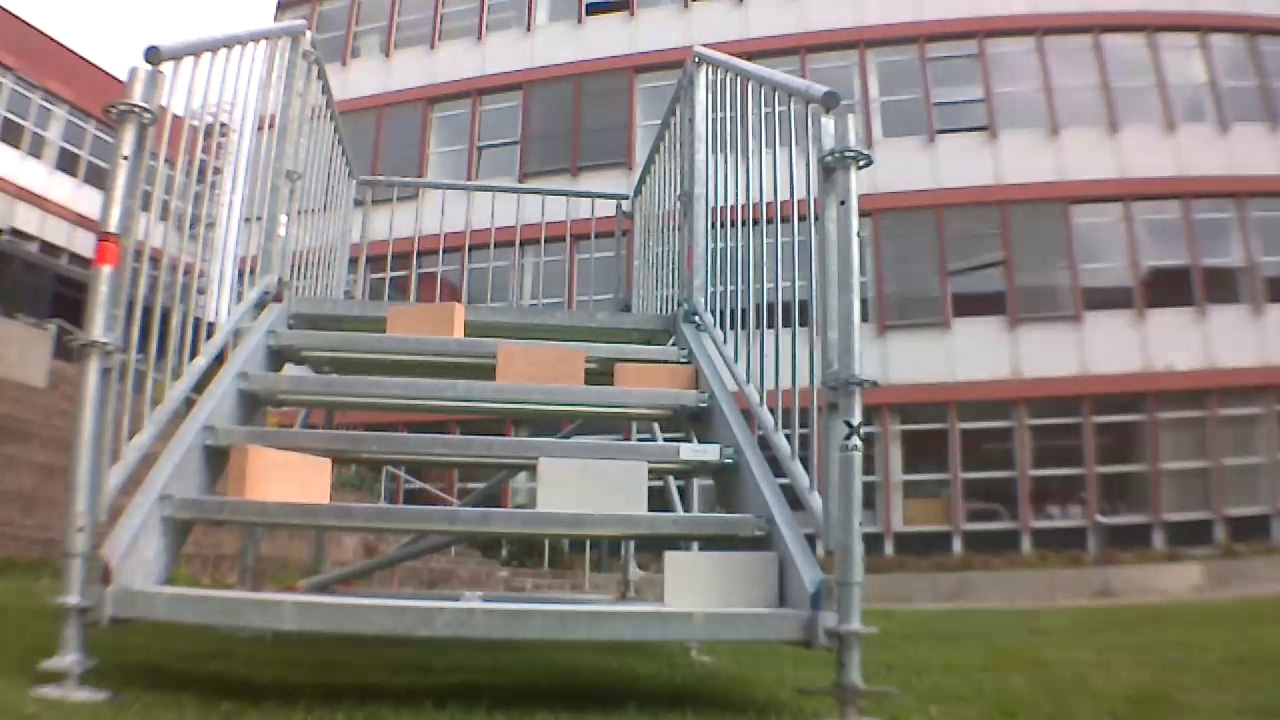brick: (661, 551, 779, 607), (536, 458, 645, 510), (231, 446, 329, 503), (497, 345, 584, 385), (388, 302, 462, 336), (614, 365, 696, 390)
edge: (114, 588, 809, 641), (163, 494, 768, 537), (201, 426, 740, 463), (236, 372, 711, 408), (267, 330, 688, 362), (293, 295, 674, 329)
stairs: (28, 16, 894, 717)
steps: (113, 290, 815, 651)
